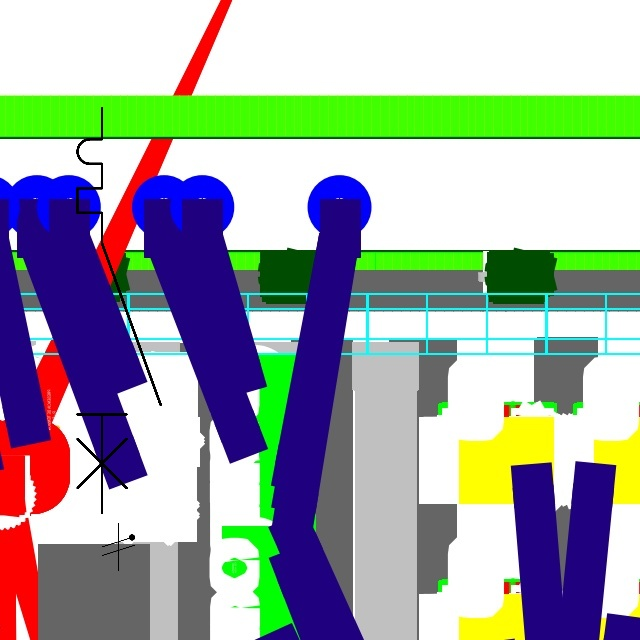interruptor_termomagnetico: (67, 98, 171, 523)
